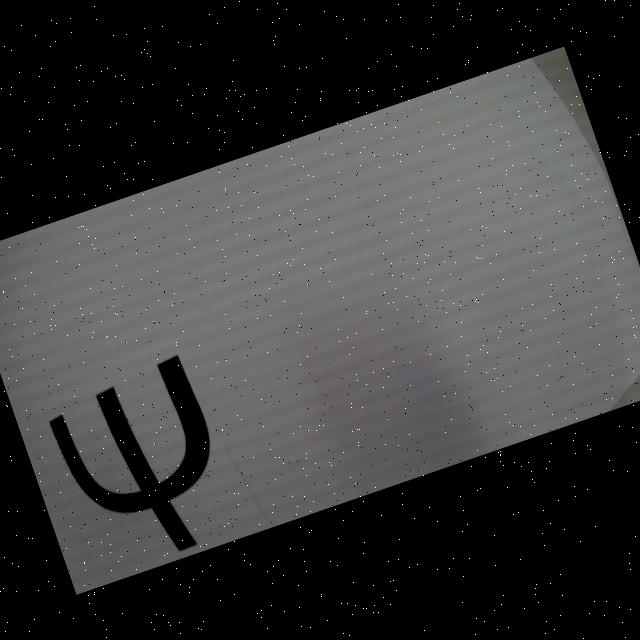PSI: (41, 352, 244, 578)
